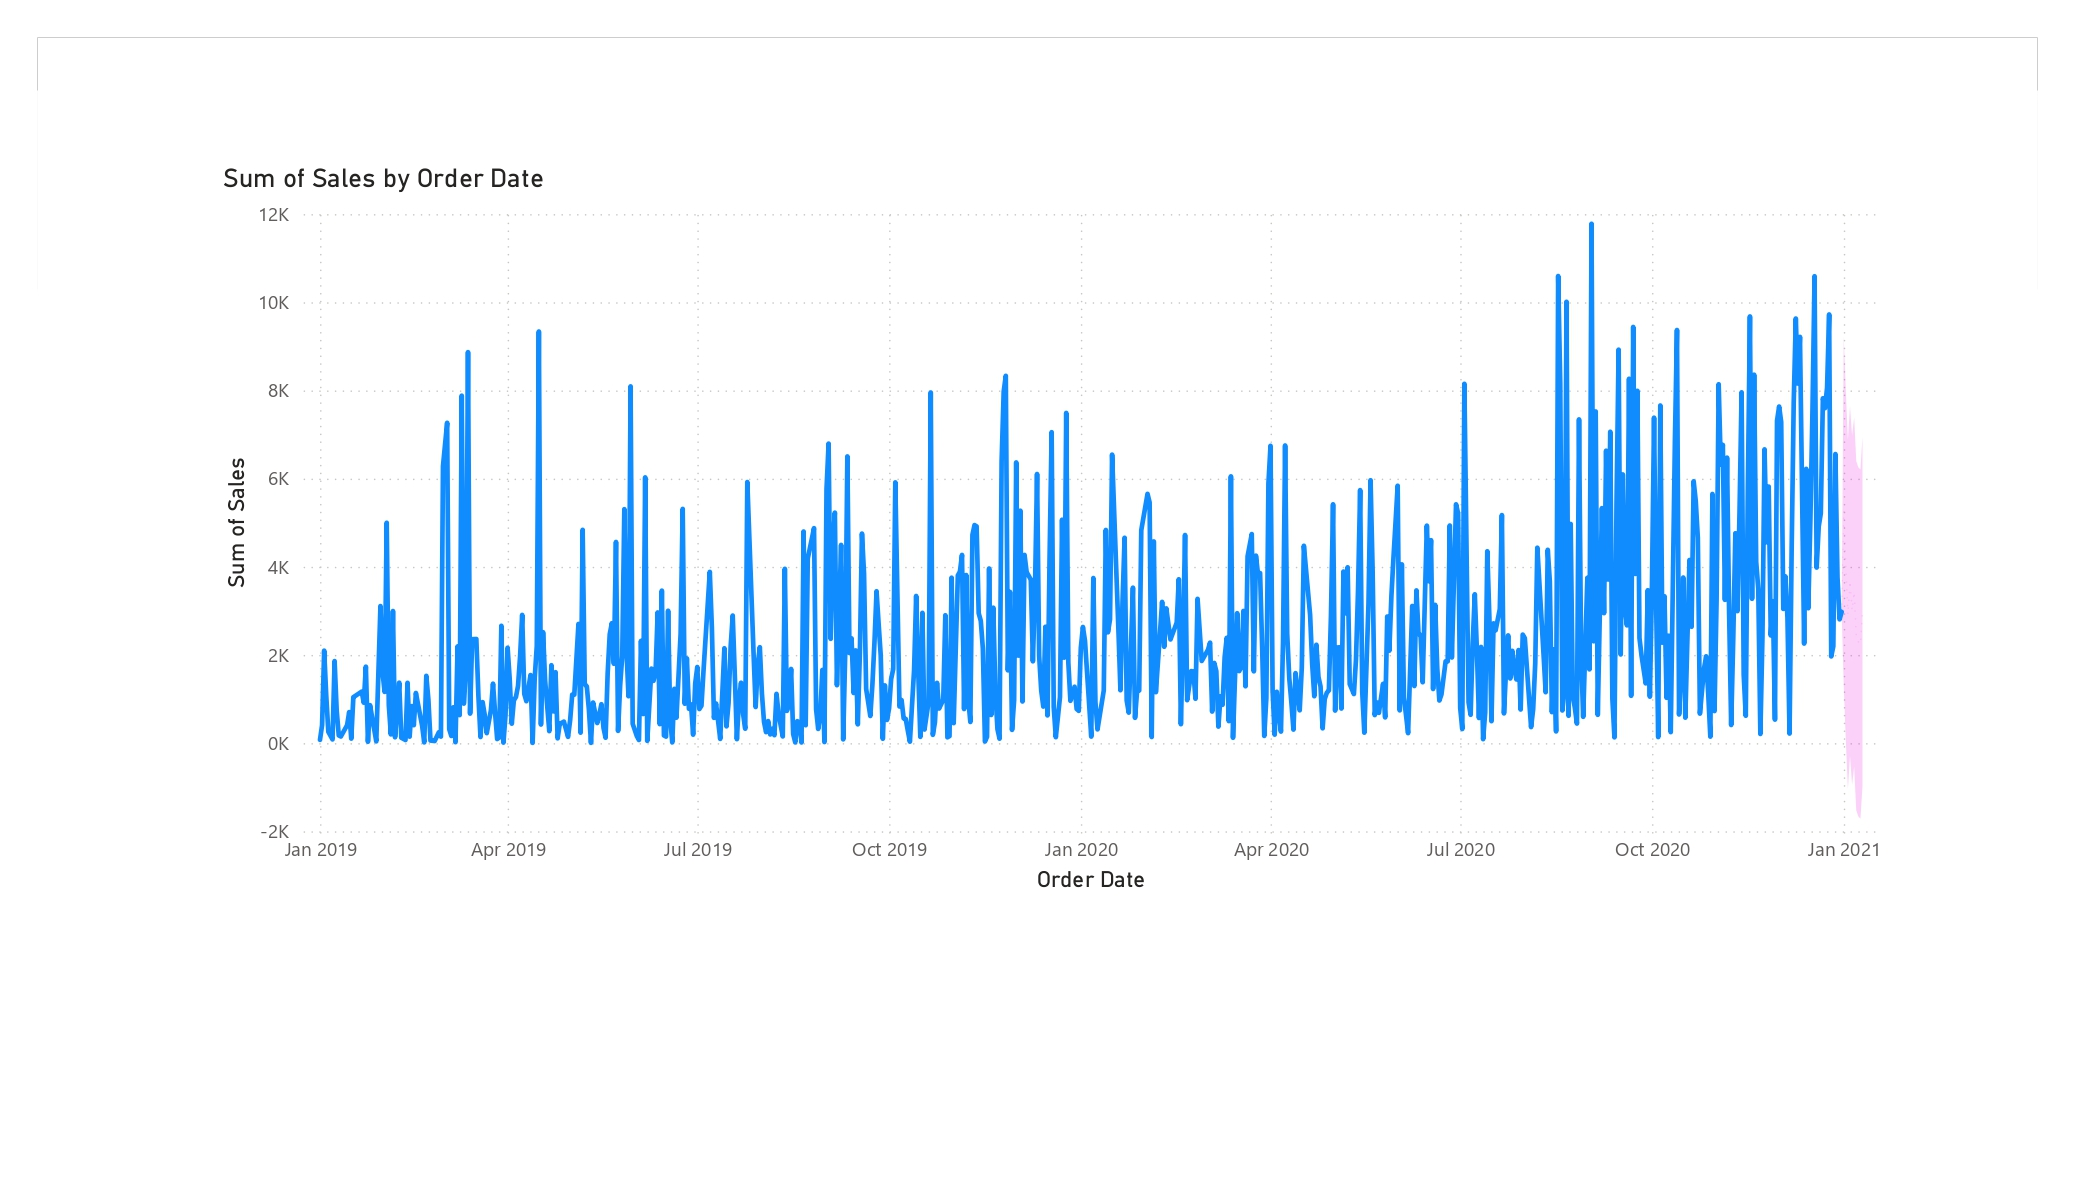

The page's visual inventory and layout, read from the dashboard file:
{"tool":"powerbi","page":{"name":"Page 2","canvas":[1280,720],"ordinal":1},"visuals":[{"type":"lineChart","fields":{"Y":["Sum(SuperStore_Sales_Dataset.Sales)"],"Category":["SuperStore_Sales_Dataset.Order Date"]},"box":[113.9,79.6,1082.7,472],"z":0}]}

Visuals, with their boxes on the page's 1280x720 design canvas (x1, y1, x2, y2). These are canvas units, not pixel positions in the 2075x1200 screenshot, which may show the page scaled, cropped or inside an application window:
lineChart - Sum(SuperStore_Sales_Dataset.Sales) x SuperStore_Sales_Dataset.Order Date: [left=114, top=80, right=1197, bottom=552]
